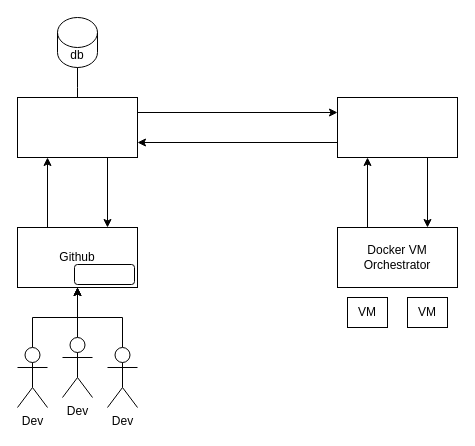
Some shapes in this 475 by 446 pixel diagram are drawn without their labels. The shapes that lost their labels are listed below. From the top down, each one's box as (x1, y1, x2, y2) in pixels, then its label:
(16, 96, 138, 158): AutoTest webservice
(336, 96, 458, 158): Ollama
(74, 264, 134, 284): Build .apk
